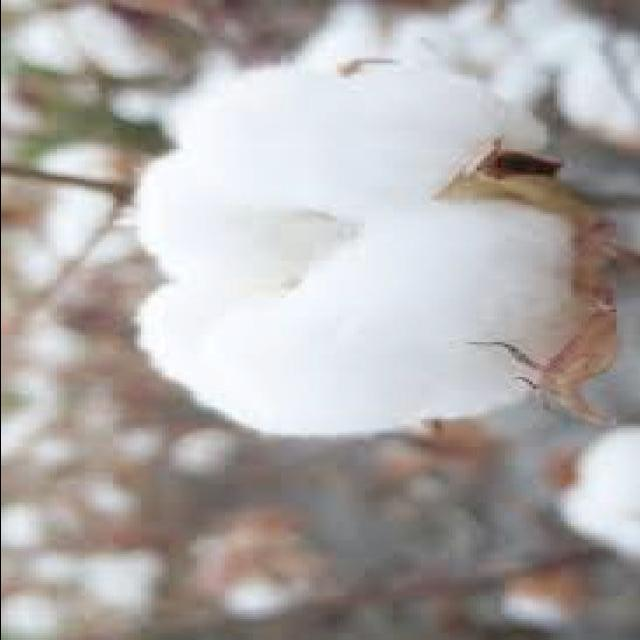Matured Cotton Boll: (112, 46, 592, 444)
